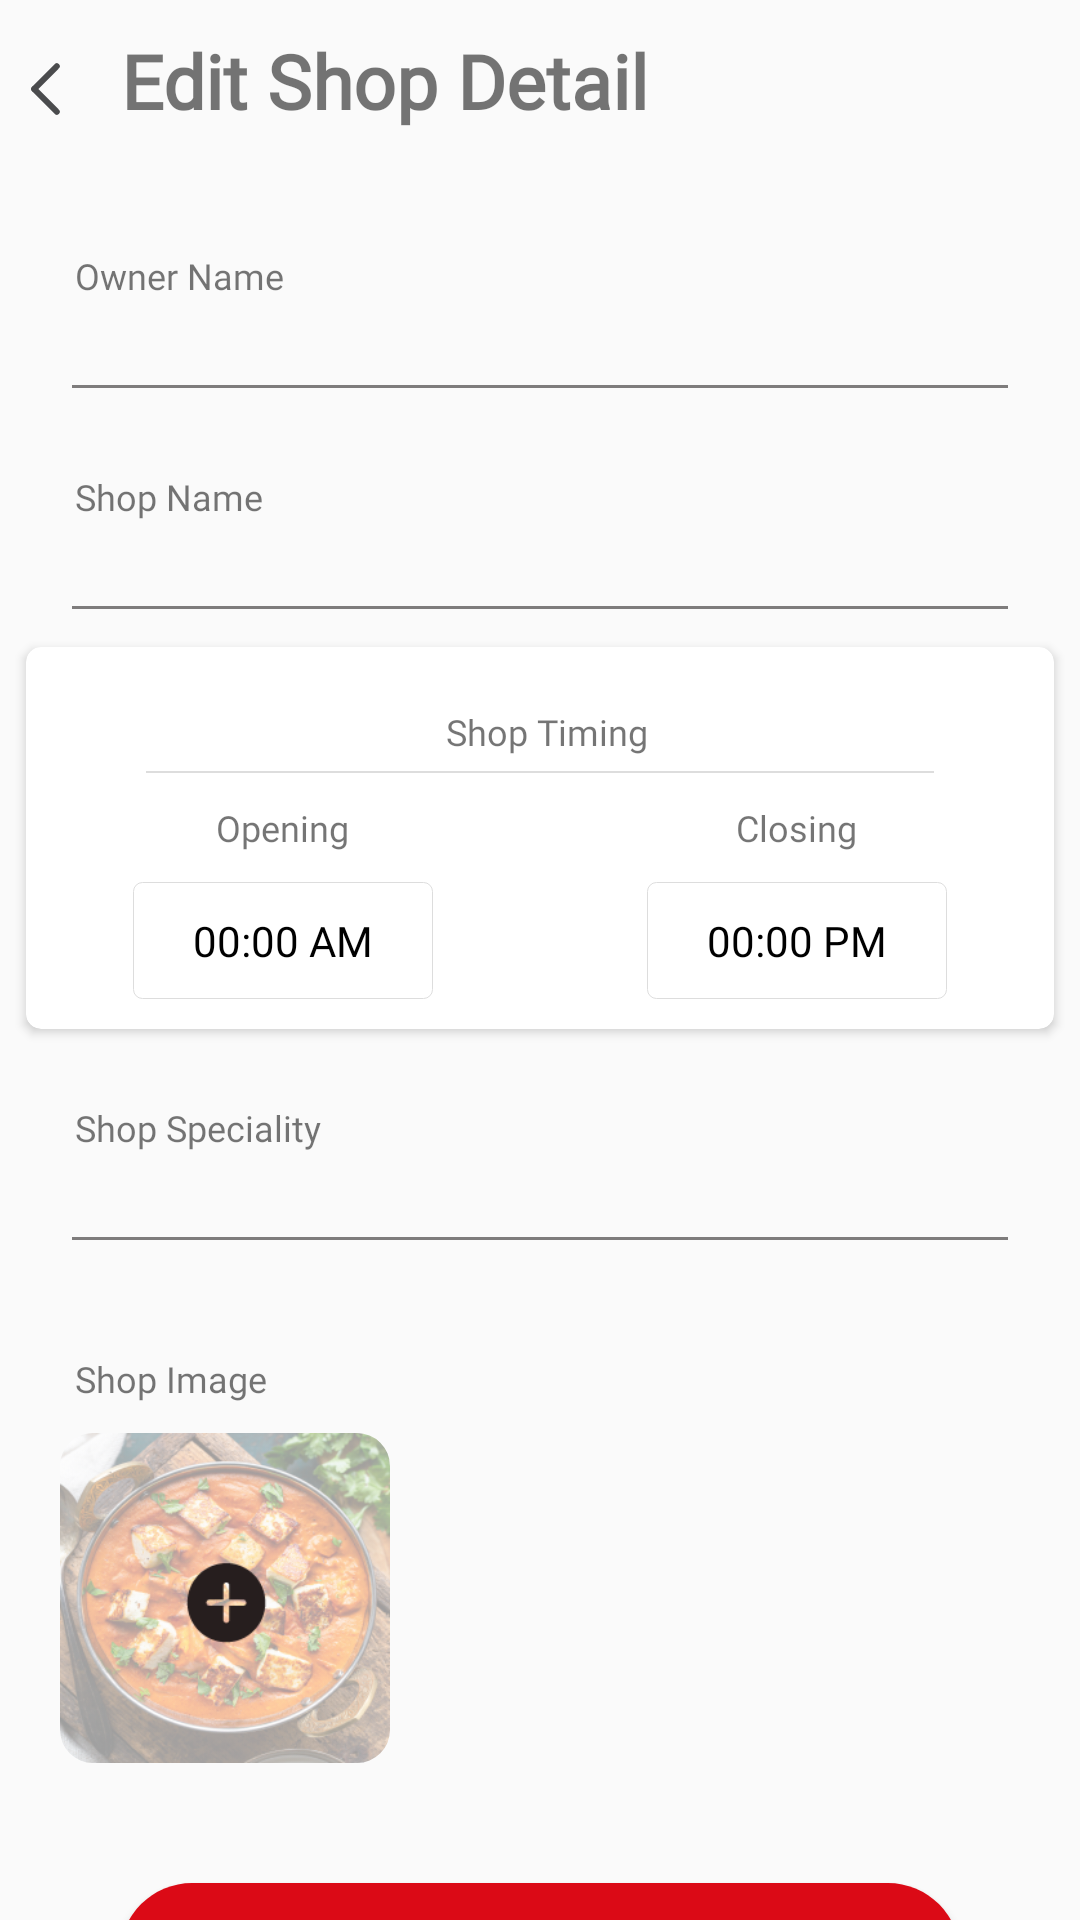

Where icons sit on this 1080 x 1920 app screen, as [x1,y1,x2,y2]:
add food imafe: [60,1433,390,1763]
arrow left: [31,63,60,115]
